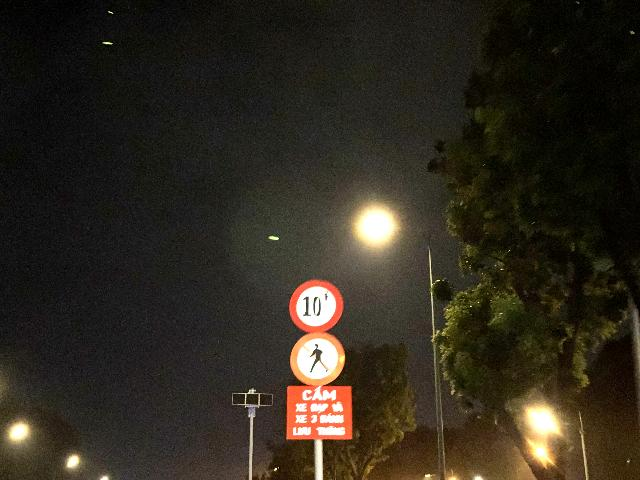cam-nguoi-di-bo: (290, 331, 346, 386)
han-che-trong-luong-xe: (289, 279, 344, 331)
